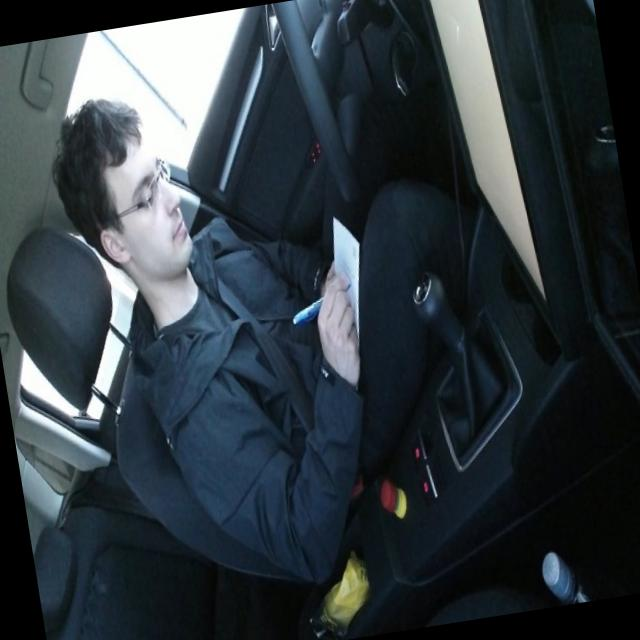pen: (287, 282, 355, 326)
